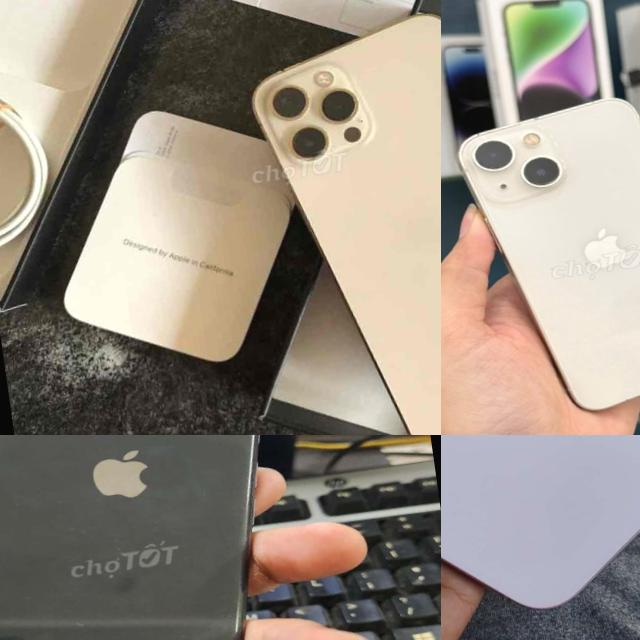gen_12_13: (240, 0, 441, 435), (444, 80, 640, 427)
gen_15: (441, 435, 640, 640)
gen_7_8: (0, 435, 310, 640)
scratch: (61, 522, 90, 542), (72, 613, 89, 629), (194, 487, 209, 503), (238, 503, 248, 520), (12, 498, 18, 511)
